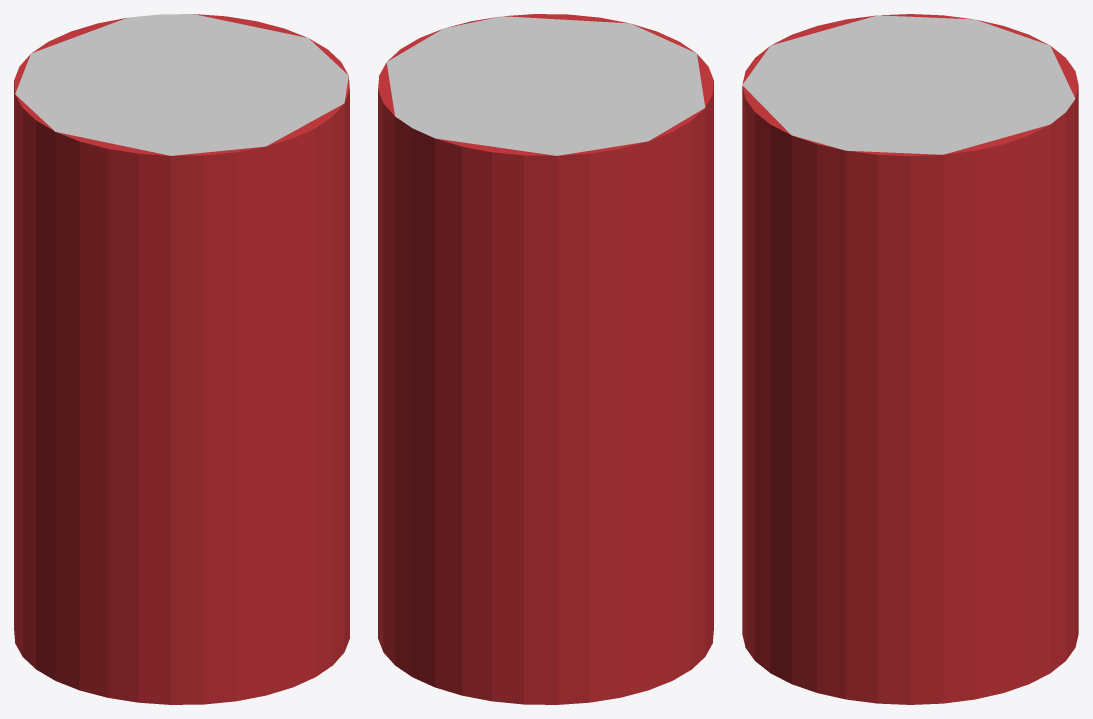
Rendered from quakerOats.dae.
3 renders of one model, left to right at view 1: azimuth 30°, elevation 25°; view 2: azimuth 150°, elevation 25°; view 3: azimuth 270°, elevation 25°, orthographic.
Parts seen in each view (by area): view 1: Cylinder; view 2: Cylinder; view 3: Cylinder.
Part boxes in pixels (x1,y1,x2,y2): Cylinder: (14,14,349,704); Cylinder: (378,14,713,704); Cylinder: (742,14,1078,704).
Bounding box in the file's own units: 0.1 × 0.1 × 0.18.
